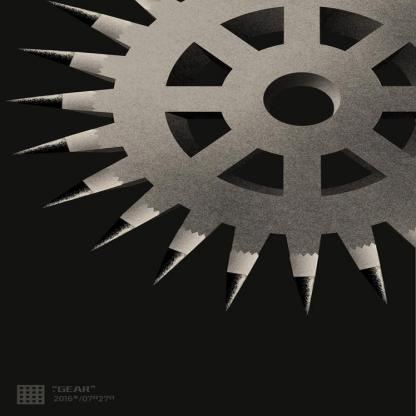FOD: (8, 0, 415, 315)
